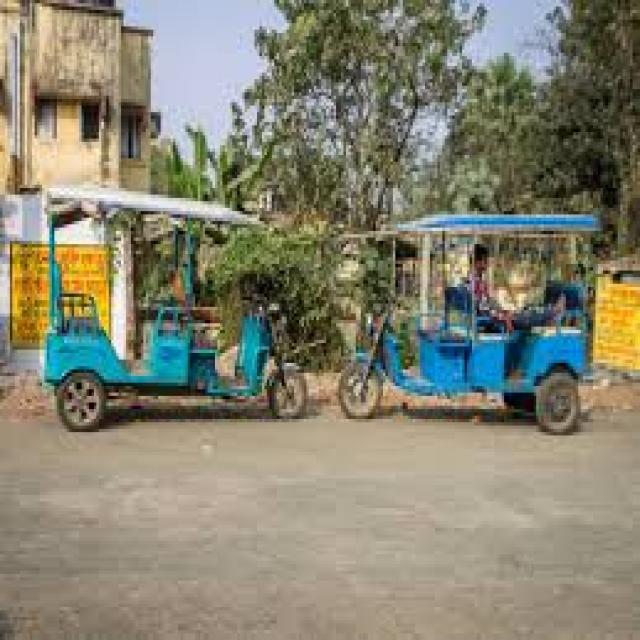Toto: (42, 186, 302, 450), (339, 206, 619, 444)
